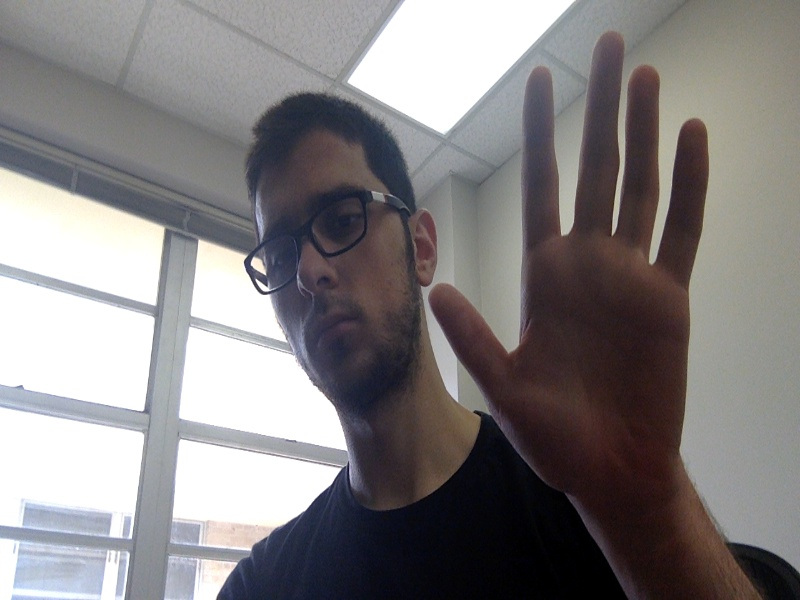5-hand: (431, 32, 710, 484)
